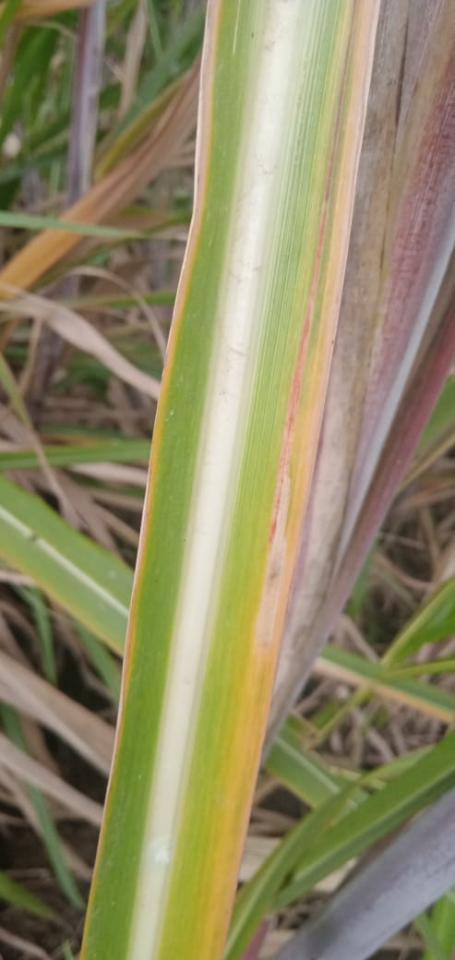Yellow: (191, 0, 377, 959), (120, 0, 224, 719)
